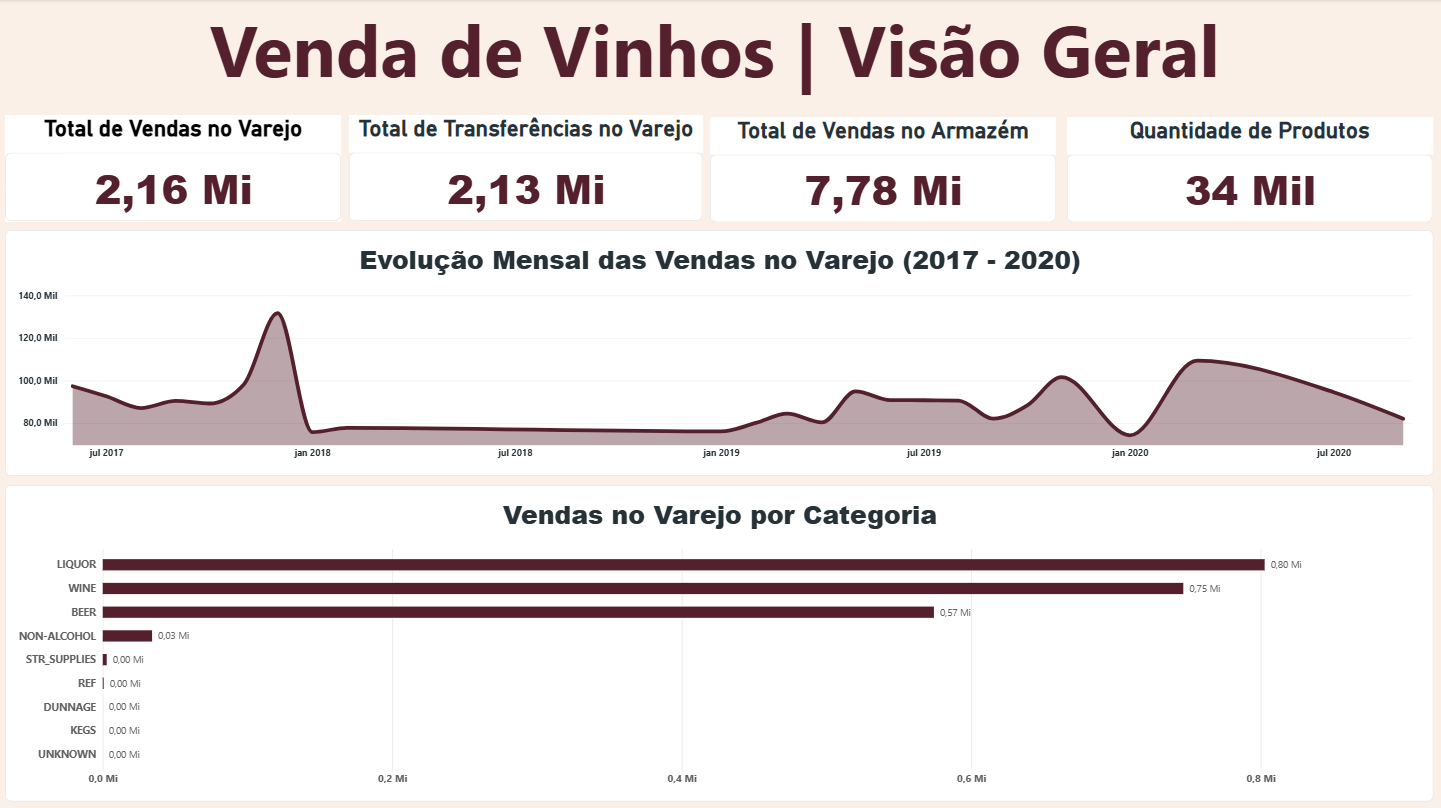

The page's visual inventory and layout, read from the dashboard file:
{"tool":"powerbi","page":{"name":"Visão Geral","canvas":[1920,1080],"ordinal":0},"visuals":[{"type":"cardVisual","title":"Total de Transferências no Varejo","fields":{"Data":["Vendas Mensais.Total Retail Transfers"]},"box":[467.7,154.9,470.6,141.9],"z":1},{"type":"cardVisual","title":"Total de Vendas no Armazém","fields":{"Data":["Vendas Mensais.Total Warehouse Sales"]},"box":[948.4,156.4,460.5,140.5],"z":2},{"type":"cardVisual","title":"Total de Vendas no Varejo","fields":{"Data":["Vendas Mensais.Total Retail Sales"]},"box":[10.1,154.9,447.4,141.9],"z":3},{"type":"cardVisual","title":"Quantidade de Produtos","fields":{"Data":["Vendas Mensais.Quantidade de Produtos"]},"box":[1423.3,156.4,486.5,140.5],"z":4},{"type":"lineChart","title":"Evolução Mensal das Vendas no Varejo (2017 - 2020)","fields":{"Category":["Vendas Mensais.SALE_MONTH"],"Y":["Vendas Mensais.Total Retail Sales"]},"box":[10.1,307,1899.7,327.2],"z":5},{"type":"barChart","title":"Vendas no Varejo por Categoria  ","fields":{"Category":["Vendas por Categoria.ITEM_TYPE"],"Y":["Vendas por Categoria.Retail Sales por Categoria"]},"box":[10.1,645.8,1899.7,421.4],"z":6},{"type":"textbox","box":[99.4,0,469.3,36.7],"z":8},{"type":"textbox","box":[0,0,1909.3,154.4],"z":9}]}

Visuals, with their boxes in screenshot pixels (x1, y1, x2, y2), scaled from the page's 1920x1080 canvas onto the 1441x808 screenshot:
"Total de Transferências no Varejo" cardVisual: 351:116:704:222
"Total de Vendas no Armazém" cardVisual: 712:117:1057:222
"Total de Vendas no Varejo" cardVisual: 8:116:343:222
"Quantidade de Produtos" cardVisual: 1068:117:1433:222
"Evolução Mensal das Vendas no Varejo (2017 - 2020)" lineChart: 8:230:1433:474
"Vendas no Varejo por Categoria  " barChart: 8:483:1433:798
textbox: 75:0:427:27
textbox: 0:0:1433:116
